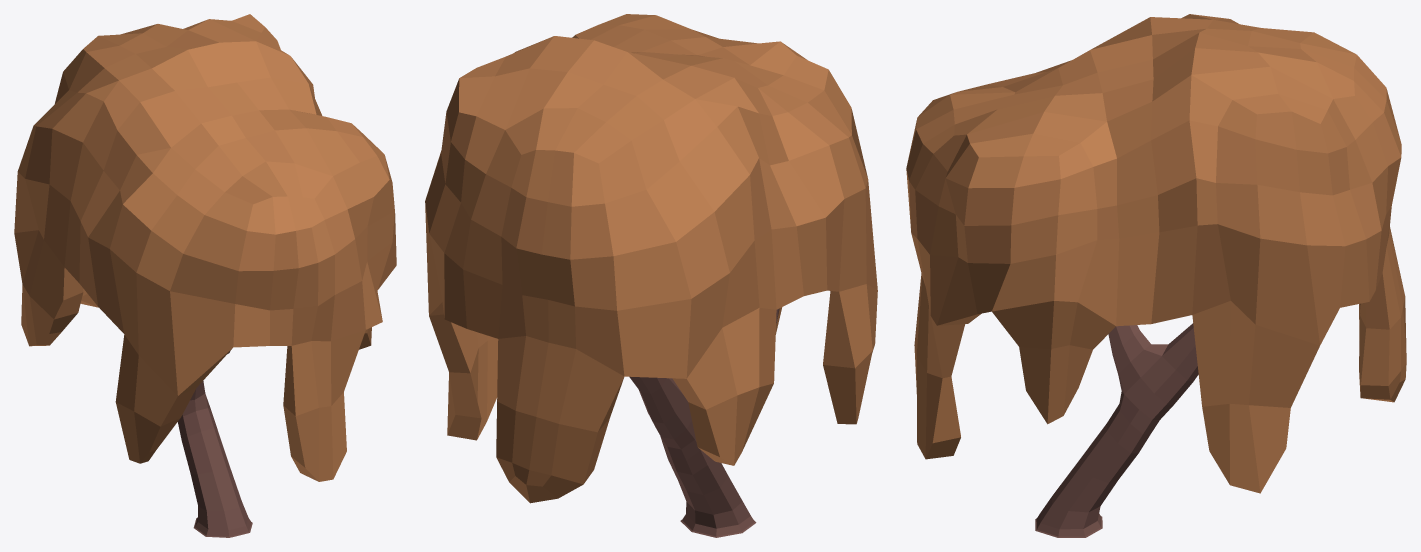
Rendered from willow_autumn_4.glb.
3 renders of one model, left to right at view 1: azimuth 30°, elevation 25°; view 2: azimuth 150°, elevation 25°; view 3: azimuth 270°, elevation 25°, orthographic. The views are drawn at different scales.
Visible parts, largest first — view 1: Willow_Autumn_4; view 2: Willow_Autumn_4; view 3: Willow_Autumn_4.
Boxes of the visible parts, x1,y1,x2,y2 form: Willow_Autumn_4: (14, 14, 396, 537); Willow_Autumn_4: (425, 14, 877, 537); Willow_Autumn_4: (906, 14, 1406, 537).
Size of the model in its own units: 5.25 by 8.13 by 7.31.
